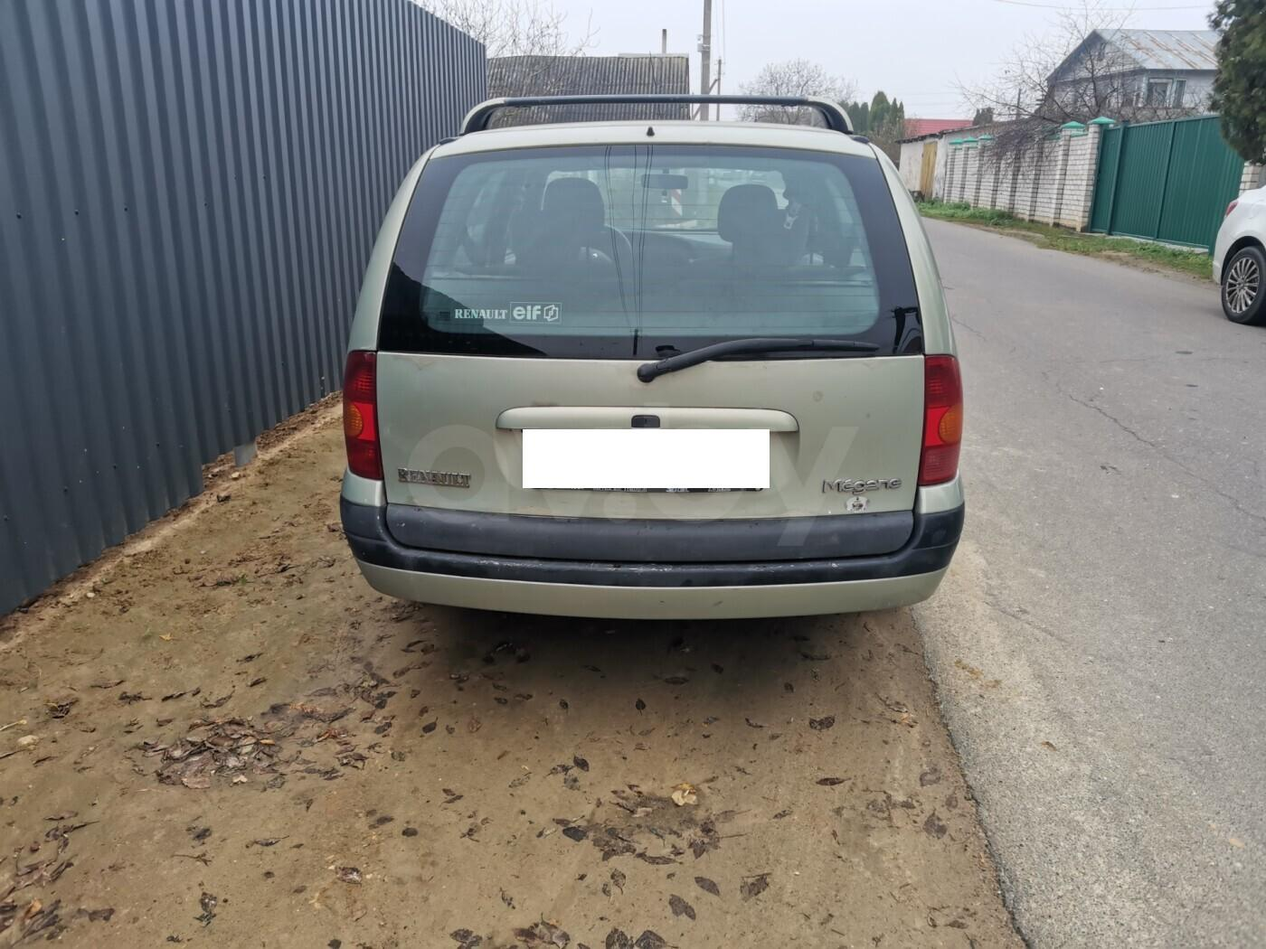Megane_1999-2003: (331, 116, 977, 642)
